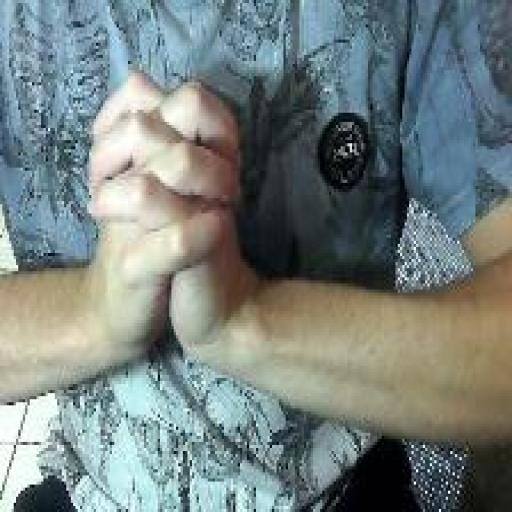Mi -snake-: (86, 67, 246, 369)
